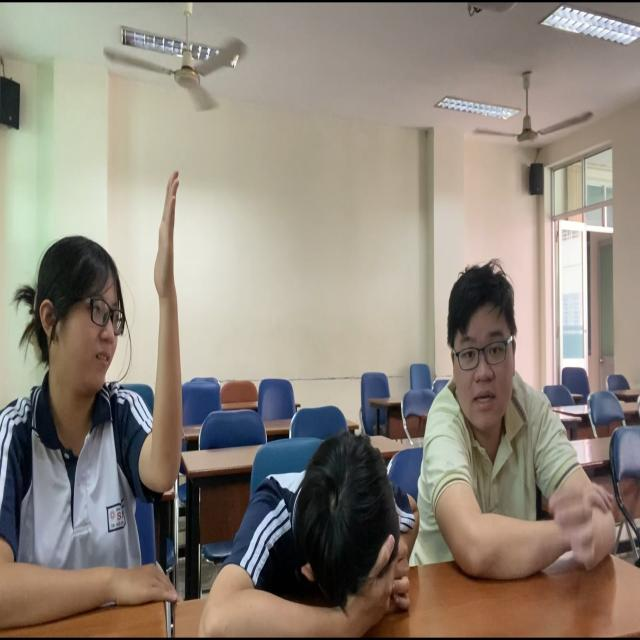raise_hand: (1, 122, 202, 640)
sleep: (202, 419, 433, 640)
